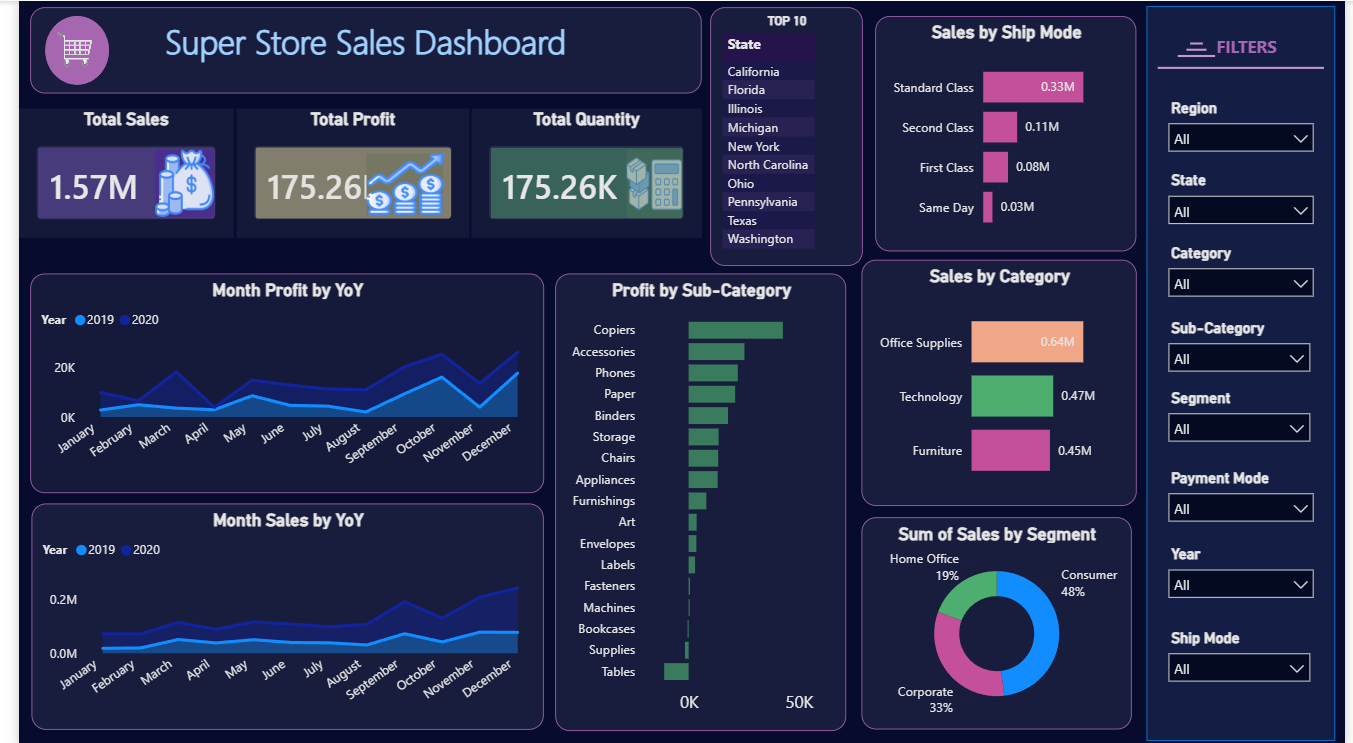

This screenshot's page, from the dashboard's own definition file:
{"tool":"powerbi","page":{"name":"Page 1","canvas":[1280,720],"ordinal":0},"visuals":[{"type":"clusteredBarChart","title":"Sales by Category","fields":{"Category":["SuperStore_Sales_Dataset.Category"],"Y":["Sum(SuperStore_Sales_Dataset.Sales)"]},"box":[813.1,249.7,265.4,237.7],"z":0},{"type":"clusteredBarChart","title":"Sales by Ship Mode","fields":{"Category":["SuperStore_Sales_Dataset.Ship Mode"],"Y":["Sum(SuperStore_Sales_Dataset.Sales)"]},"box":[826.4,14.5,252.1,226.8],"z":1000},{"type":"stackedAreaChart","title":" Month Sales by YoY","fields":{"Y":["Sum(SuperStore_Sales_Dataset.Sales)"],"Category":["SuperStore_Sales_Dataset.Order Date.Variation.Date Hierarchy.Month","SuperStore_Sales_Dataset.Order Date.Variation.Date Hierarchy.Day"],"Series":["SuperStore_Sales_Dataset.Order Date.Variation.Date Hierarchy.Year"]},"box":[12.1,485,494.6,218.4],"z":2000},{"type":"stackedAreaChart","title":" Month Profit by YoY","fields":{"Category":["SuperStore_Sales_Dataset.Order Date.Variation.Date Hierarchy.Month","SuperStore_Sales_Dataset.Order Date.Variation.Date Hierarchy.Day"],"Series":["SuperStore_Sales_Dataset.Order Date.Variation.Date Hierarchy.Year"],"Y":["Sum(SuperStore_Sales_Dataset.Profit)"]},"box":[10.9,263,495.8,212.3],"z":3000},{"type":"donutChart","fields":{"Category":["SuperStore_Sales_Dataset.Segment"],"Y":["Sum(SuperStore_Sales_Dataset.Sales)"]},"box":[813.1,498.3,260.6,205.1],"z":4000},{"type":"textbox","box":[10.9,6,647.9,83.2],"z":5000},{"type":"shape","box":[1088.2,4.8,182.2,709.4],"z":6000},{"type":"textbox","box":[1099.1,27.7,171.3,37.4],"z":7000},{"type":"shape","box":[1099.1,29,160.5,71.2],"z":8000},{"type":"shape","box":[1126.8,41,19.3,12.1],"z":9000},{"type":"shape","box":[1118.4,41,36.2,24.1],"z":10000},{"type":"shape","box":[1130.4,35,12.1,12.1],"z":11000},{"type":"slicer","fields":{"Values":["SuperStore_Sales_Dataset.Region"]},"box":[1099.1,89.3,160.5,62.7],"z":12000},{"type":"slicer","fields":{"Values":["SuperStore_Sales_Dataset.State"]},"box":[1099.1,159.3,160.5,66.4],"z":13000},{"type":"slicer","fields":{"Values":["SuperStore_Sales_Dataset.Category"]},"box":[1099.1,229.2,160.5,67.6],"z":14000},{"type":"slicer","fields":{"Values":["SuperStore_Sales_Dataset.Sub-Category"]},"box":[1099.1,301.6,156.8,67.6],"z":15000},{"type":"slicer","fields":{"Values":["SuperStore_Sales_Dataset.Segment"]},"box":[1099.1,369.2,156.8,68.8],"z":16000},{"type":"slicer","fields":{"Values":["SuperStore_Sales_Dataset.Payment Mode"]},"box":[1099.1,446.4,160.5,63.9],"z":17000},{"type":"slicer","fields":{"Values":["SuperStore_Sales_Dataset.Order Date.Variation.Date Hierarchy.Year"]},"box":[1099.1,520,160.5,68.8],"z":18000},{"type":"shape","box":[25.3,14.5,61.5,66.4],"z":19000},{"type":"actionButton","box":[33.8,27.7,41,37.4],"z":20000},{"type":"clusteredBarChart","title":" Profit by Sub-Category","fields":{"Category":["SuperStore_Sales_Dataset.Sub-Category"],"Y":["Sum(SuperStore_Sales_Dataset.Profit)"]},"box":[517.6,263,281.1,441.6],"z":21000},{"type":"slicer","fields":{"Values":["SuperStore_Sales_Dataset.Ship Mode"]},"box":[1099.1,600.8,156.8,67.6],"z":22000},{"type":"cardVisual","title":"Total Sales","fields":{"Data":["Sum(SuperStore_Sales_Dataset.Sales)"]},"box":[0,104.3,207.2,124.9],"z":23000},{"type":"cardVisual","title":"Total Profit","fields":{"Data":["Sum(SuperStore_Sales_Dataset.Profit)"]},"box":[209.9,104.3,225,124.9],"z":24000},{"type":"cardVisual","title":"Total Quantity","fields":{"Data":["Sum(SuperStore_Sales_Dataset.Profit)"]},"box":[436.4,104.3,222.3,124.9],"z":25000},{"type":"actionButton","box":[131.5,143.6,56.7,65.1],"z":26000},{"type":"actionButton","box":[334.8,146.8,74.1,59],"z":27000},{"type":"actionButton","box":[585.9,144.1,53.5,65.9],"z":28000},{"type":"tableEx","title":"TOP 10","fields":{"Values":["SuperStore_Sales_Dataset.State"]},"box":[666.9,5.5,146.8,249.7],"z":29000}]}

Visuals, with their boxes in screenshot pixels (x1, y1, x2, y2), scaled from the page's 1280x720 canvas onto the 1353x743 screenshot:
"Sales by Category" clusteredBarChart: bbox(859, 258, 1140, 503)
"Sales by Ship Mode" clusteredBarChart: bbox(874, 15, 1140, 249)
" Month Sales by YoY" stackedAreaChart: bbox(13, 500, 536, 726)
" Month Profit by YoY" stackedAreaChart: bbox(12, 271, 536, 490)
donutChart - SuperStore_Sales_Dataset.Segment x Sum(SuperStore_Sales_Dataset.Sales): bbox(859, 514, 1135, 726)
textbox: bbox(12, 6, 696, 92)
shape: bbox(1150, 5, 1343, 737)
textbox: bbox(1162, 29, 1343, 67)
shape: bbox(1162, 30, 1331, 103)
shape: bbox(1191, 42, 1211, 55)
shape: bbox(1182, 42, 1220, 67)
shape: bbox(1195, 36, 1208, 49)
slicer - SuperStore_Sales_Dataset.Region: bbox(1162, 92, 1331, 157)
slicer - SuperStore_Sales_Dataset.State: bbox(1162, 164, 1331, 233)
slicer - SuperStore_Sales_Dataset.Category: bbox(1162, 237, 1331, 306)
slicer - SuperStore_Sales_Dataset.Sub-Category: bbox(1162, 311, 1328, 381)
slicer - SuperStore_Sales_Dataset.Segment: bbox(1162, 381, 1328, 452)
slicer - SuperStore_Sales_Dataset.Payment Mode: bbox(1162, 461, 1331, 527)
slicer - SuperStore_Sales_Dataset.Order Date.Variation.Date Hierarchy.Year: bbox(1162, 537, 1331, 608)
shape: bbox(27, 15, 92, 83)
actionButton: bbox(36, 29, 79, 67)
" Profit by Sub-Category" clusteredBarChart: bbox(547, 271, 844, 727)
slicer - SuperStore_Sales_Dataset.Ship Mode: bbox(1162, 620, 1328, 690)
"Total Sales" cardVisual: bbox(0, 108, 219, 237)
"Total Profit" cardVisual: bbox(222, 108, 460, 237)
"Total Quantity" cardVisual: bbox(461, 108, 696, 237)
actionButton: bbox(139, 148, 199, 215)
actionButton: bbox(354, 151, 432, 212)
actionButton: bbox(619, 149, 676, 217)
"TOP 10" tableEx: bbox(705, 6, 860, 263)
